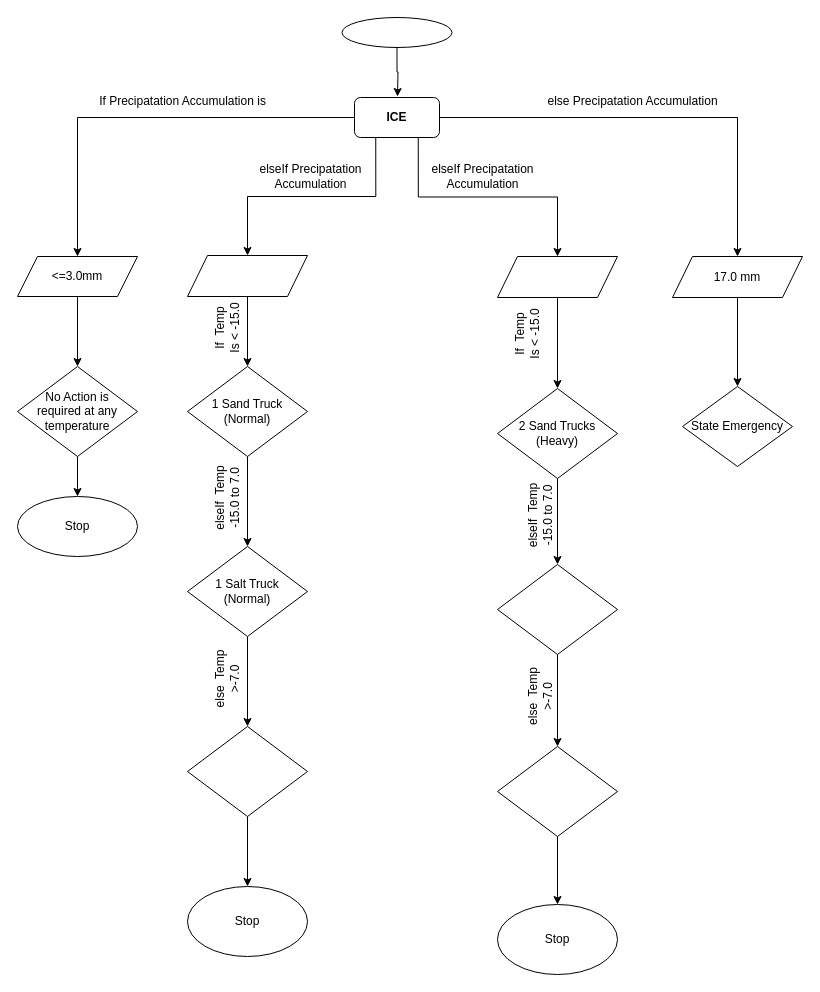
The diagram is 820 pixels wide and 992 high, and some of its shapes have lost their labels. The shapes that lost their labels are listed below. From the top down, each one's centre as x and y in pixels, then its label:
At (x=396, y=32): "Start".
At (x=247, y=275): ">3.0 - 5.5 mm".
At (x=557, y=277): ">5.5 - 17.0 mm".
At (x=557, y=609): "2 Salt Trucks (Heavy)".
At (x=247, y=771): "No Action Required".
At (x=557, y=791): "1 Salt Truck (Heavy)".
